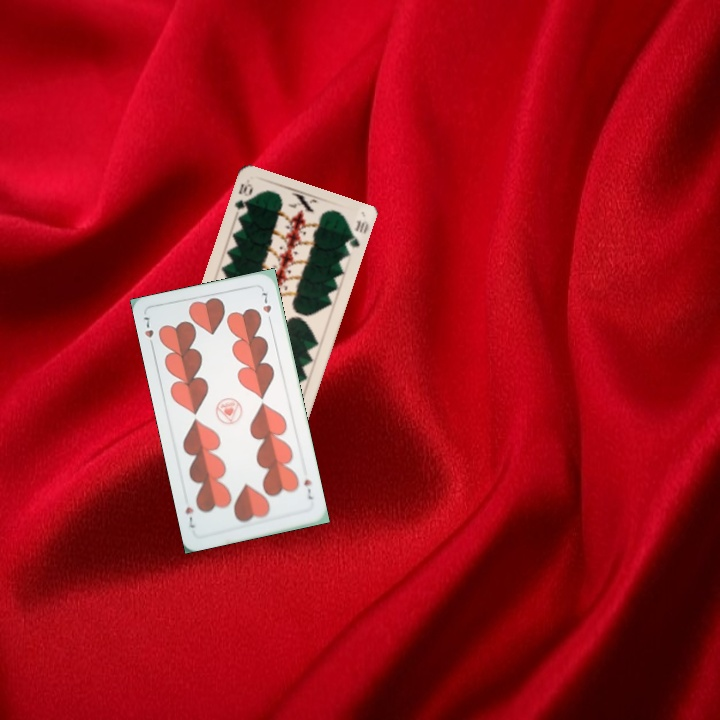G10: (230, 179, 256, 217)
H7: (140, 313, 156, 351), (300, 475, 315, 502)
